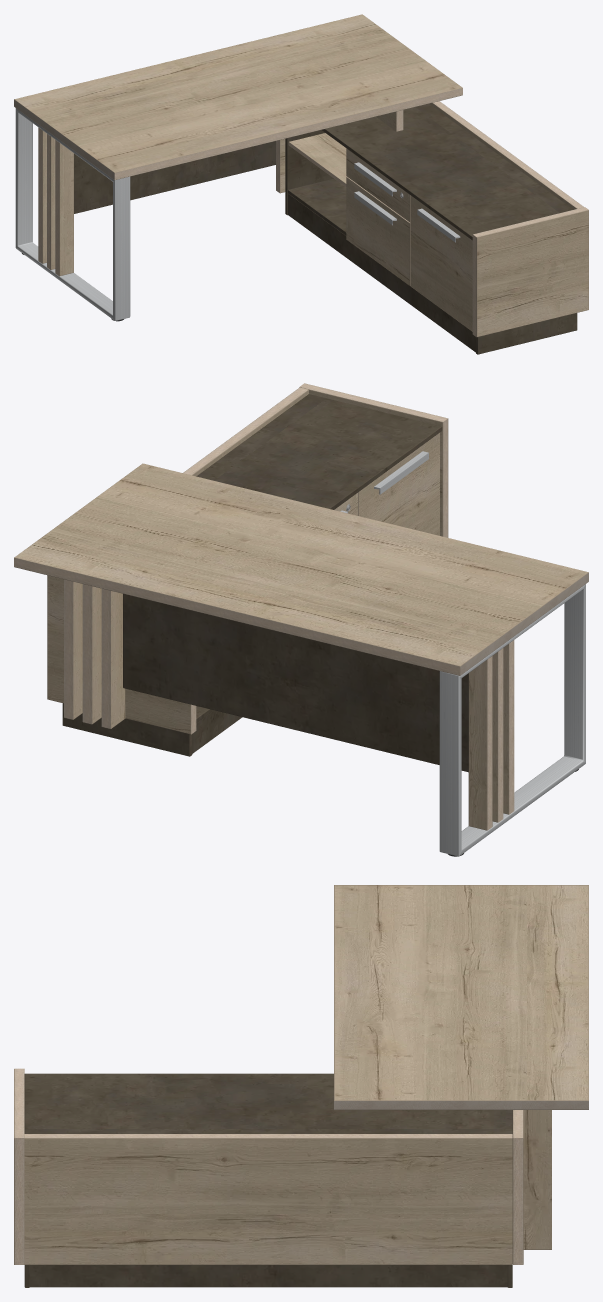
3 views of the same model, one above another, from view 1: azimuth 30°, elevation 25°; view 2: azimuth 150°, elevation 25°; view 3: azimuth 270°, elevation 25° (orthographic). The views are drawn at different scales.
Visible parts, largest first — view 1: Box1578995191, Line1789532232, Line1789532227, Plane1022, Line1789532223, Box1578995190, Line1789532213, Line1789532225, Line1789532217, Line1789532216, Line1789532214, Line1789532221 (+4 smaller); view 2: Box1578995191, Box1578995190, Line1789532232, Plane1022, Line1789532230, Line1789532213, Line1789532223, Line1789532228, Line1789532227, Line1789532215, Line1789532229, Line1789532217 (+1 smaller); view 3: Line1789532229, Box1578995191, Line1789532232, Line1789532218, Line1789532230, Line1789532227, Line1789532228.
Part boxes in pixels (x1,y1,x2,y2): Box1578995191: [14, 14, 462, 180]; Line1789532232: [322, 103, 573, 240]; Line1789532227: [472, 207, 588, 337]; Plane1022: [15, 108, 130, 320]; Line1789532223: [410, 195, 472, 331]; Box1578995190: [74, 141, 275, 213]; Line1789532213: [38, 127, 73, 276]; Line1789532225: [346, 176, 410, 285]; Line1789532217: [288, 193, 475, 352]; Line1789532216: [288, 178, 346, 235]; Line1789532214: [476, 313, 577, 354]; Line1789532221: [288, 133, 346, 186]; Box1578995191: [14, 463, 588, 675]; Box1578995190: [123, 594, 468, 772]; Line1789532232: [196, 394, 442, 509]; Plane1022: [439, 584, 585, 856]; Line1789532230: [64, 579, 125, 728]; Line1789532213: [468, 640, 514, 830]; Line1789532223: [358, 432, 439, 535]; Line1789532228: [47, 575, 196, 734]; Line1789532227: [299, 383, 448, 537]; Line1789532215: [62, 703, 192, 756]; Line1789532229: [183, 387, 308, 476]; Line1789532217: [192, 710, 242, 753]; Line1789532229: [24, 1134, 512, 1264]; Box1578995191: [334, 885, 588, 1109]; Line1789532232: [24, 1073, 512, 1133]; Line1789532218: [30, 1265, 507, 1287]; Line1789532230: [523, 1110, 551, 1249]; Line1789532227: [14, 1068, 24, 1264]; Line1789532228: [512, 1110, 523, 1264].
Size of the model in its own units: 1.8 by 0.75 by 2.03.
8 materials, 6 textured.
